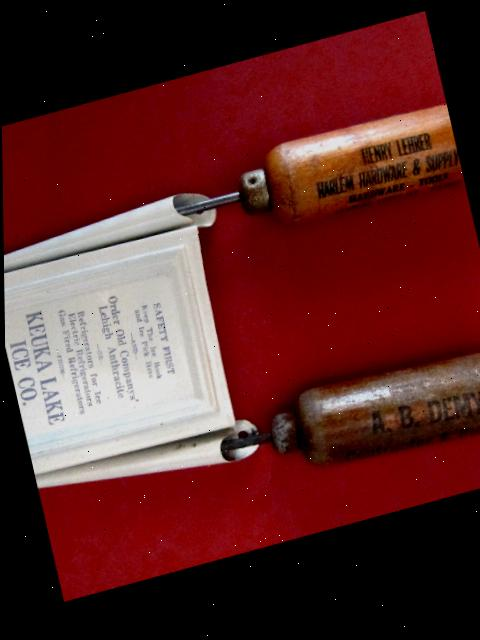ice pick: (167, 106, 464, 257), (213, 348, 480, 503)
